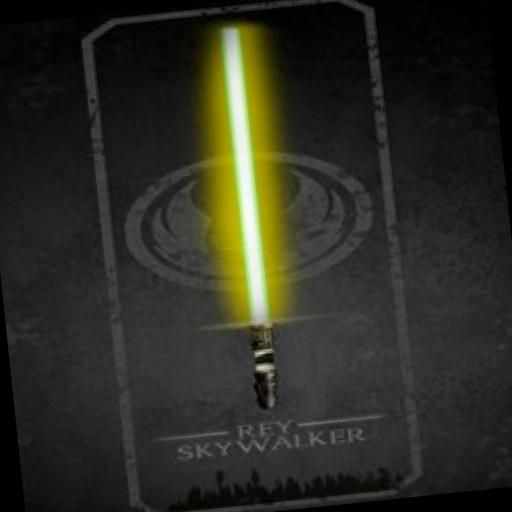lightsaber: (194, 21, 284, 414)
